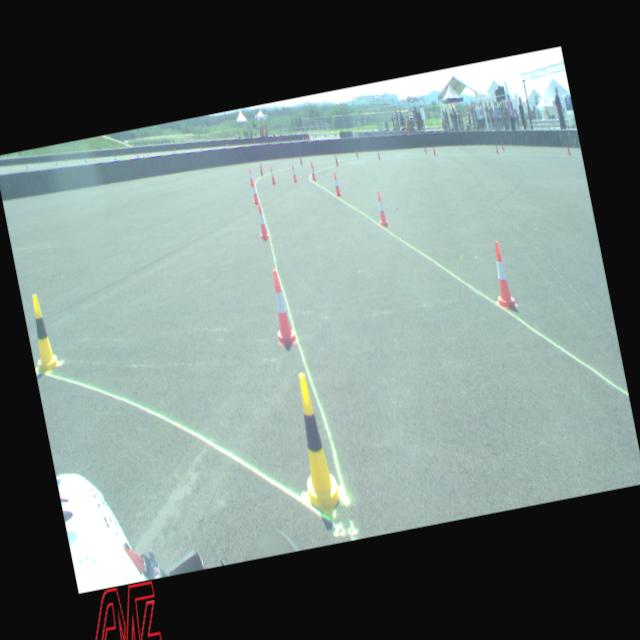orange_cone: (265, 268, 298, 348), (486, 240, 518, 311), (254, 200, 270, 240), (374, 190, 389, 228), (332, 172, 342, 196), (250, 180, 259, 203), (268, 166, 276, 184), (290, 165, 298, 182), (309, 162, 316, 180), (247, 168, 254, 186)
yellow_cone: (281, 369, 347, 518), (22, 292, 62, 376)
